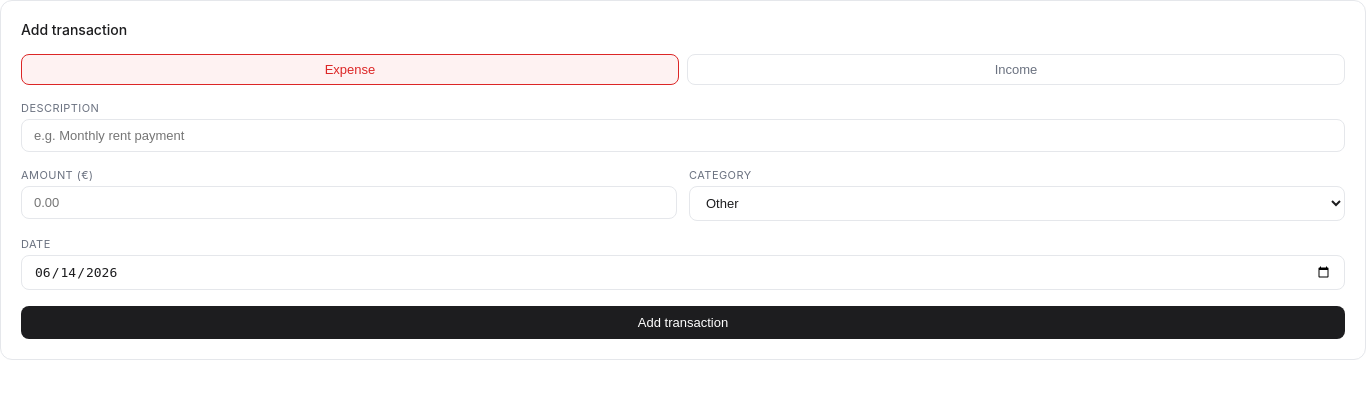
it: AddTransactionForm › shows error when amount is invalid
The width and height of the screenshot is (1366, 408).
In the field with placeholder "e.g. Monthly rent payment": (683, 136) [21, 119, 1345, 152], type "Coffee"
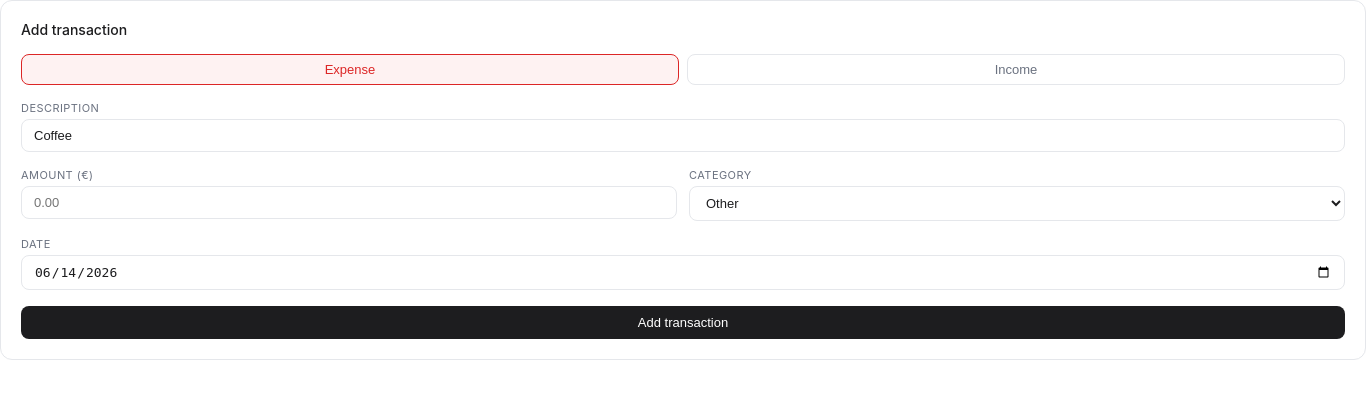
Click the button "Add transaction": click(683, 322) [21, 306, 1345, 339]
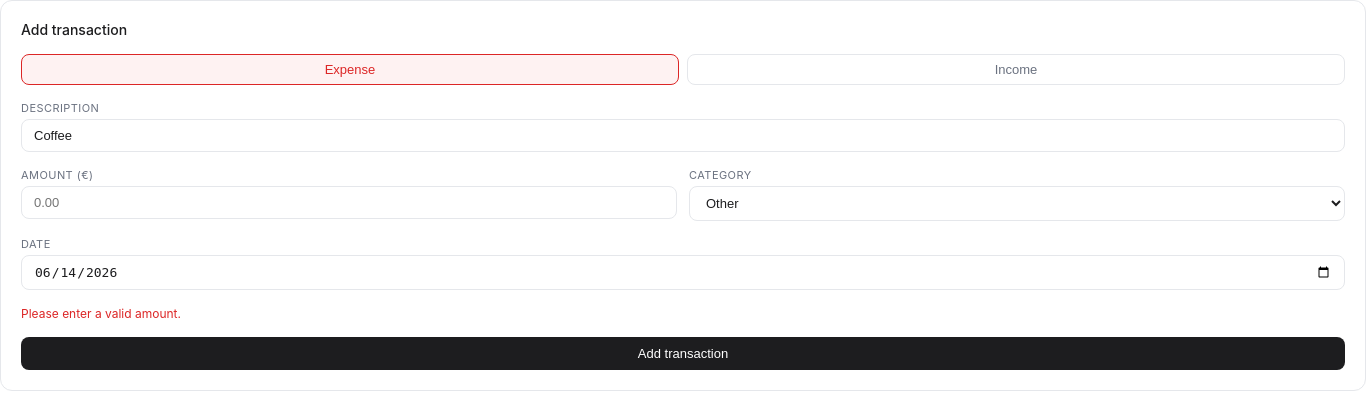
Check: the text "Please enter a valid amount." is shown, box [21, 306, 181, 321]
